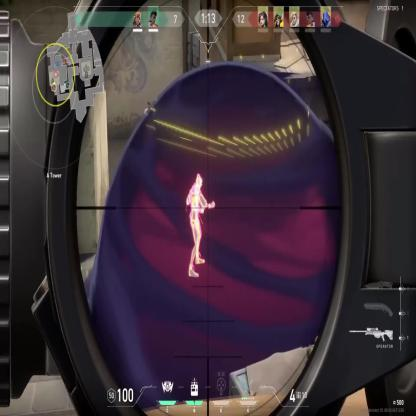enemy: (184, 172, 214, 274)
enemy_head: (196, 174, 203, 190)
